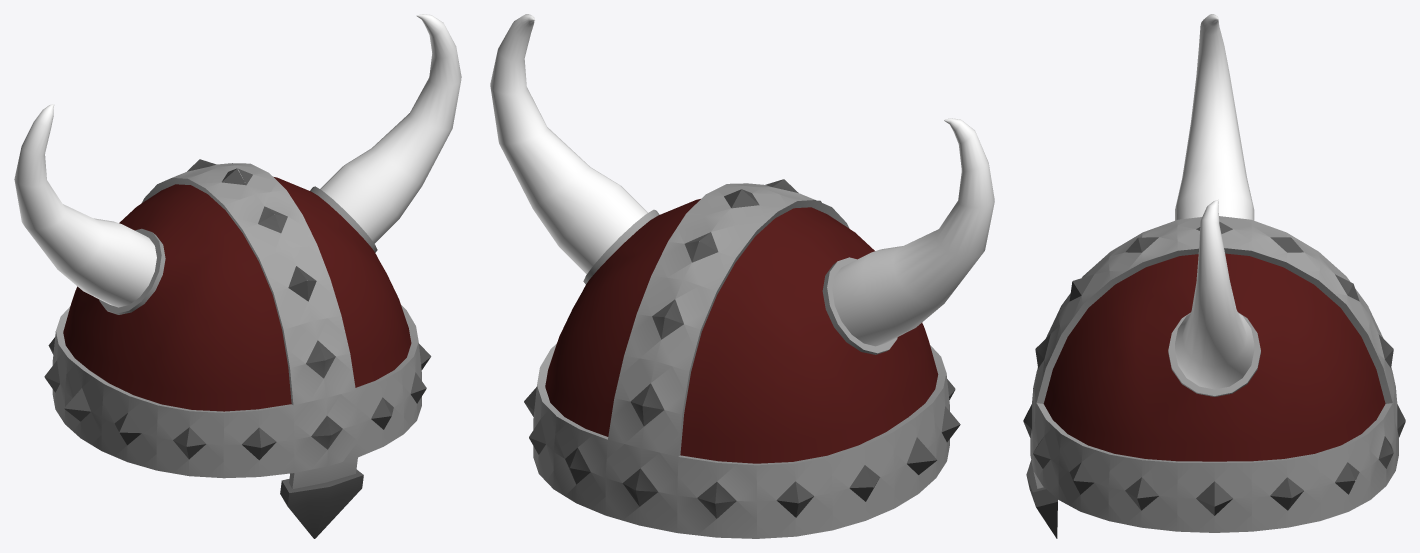
The model's file is casco_vikingo.gltf.
3 renders of one model, left to right at view 1: azimuth 30°, elevation 25°; view 2: azimuth 150°, elevation 25°; view 3: azimuth 270°, elevation 25°, orthographic. The views are drawn at different scales.
Visible parts, largest first — view 1: Viking Helmet; view 2: Viking Helmet; view 3: Viking Helmet.
Part boxes in pixels (<box>): Viking Helmet: <box>14,14,461,538</box>; Viking Helmet: <box>490,14,994,538</box>; Viking Helmet: <box>1023,14,1405,538</box>.
Bounding box in the file's own units: 6.22 × 5.66 × 4.56.
